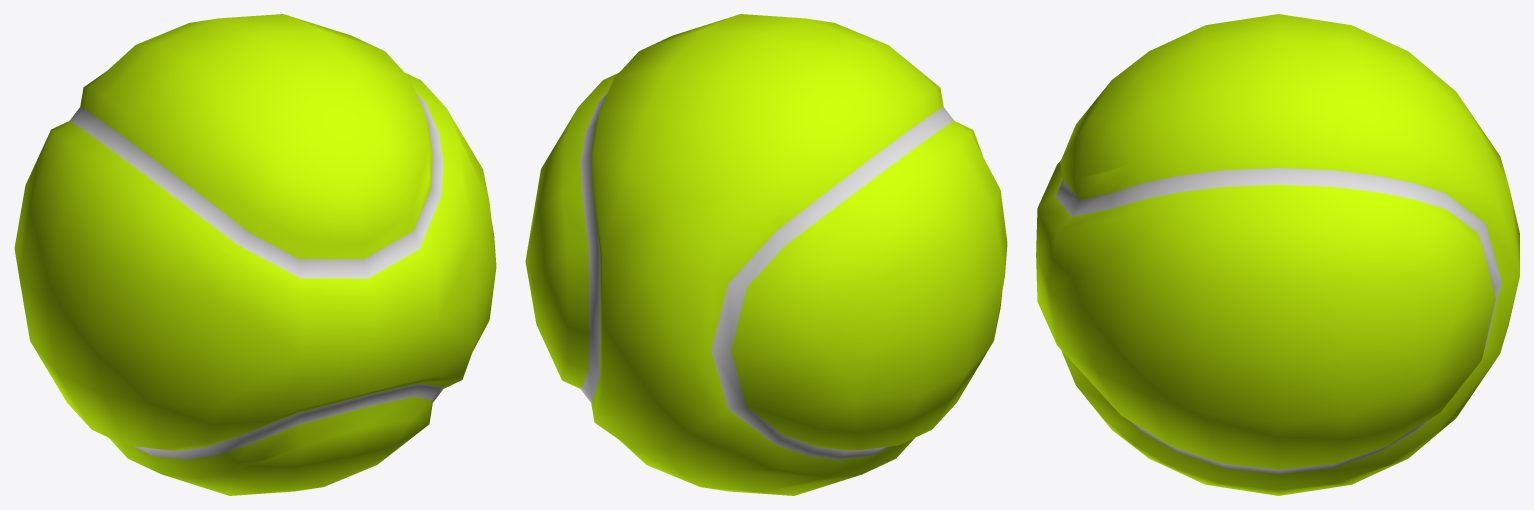
The model's file is TNP0110026.FBX.
3 views of the same model, side by side, from view 1: azimuth 30°, elevation 25°; view 2: azimuth 150°, elevation 25°; view 3: azimuth 270°, elevation 25° (orthographic).
Parts seen in each view (by area): view 1: smTNP0110026; view 2: smTNP0110026; view 3: smTNP0110026.
Part boxes in pixels (x1,y1,x2,y2): smTNP0110026: (14,14,496,495); smTNP0110026: (525,14,1007,495); smTNP0110026: (1036,14,1519,495).
Bounding box in the file's own units: 12.38 × 12.38 × 12.35.
1 material, 1 textured.
